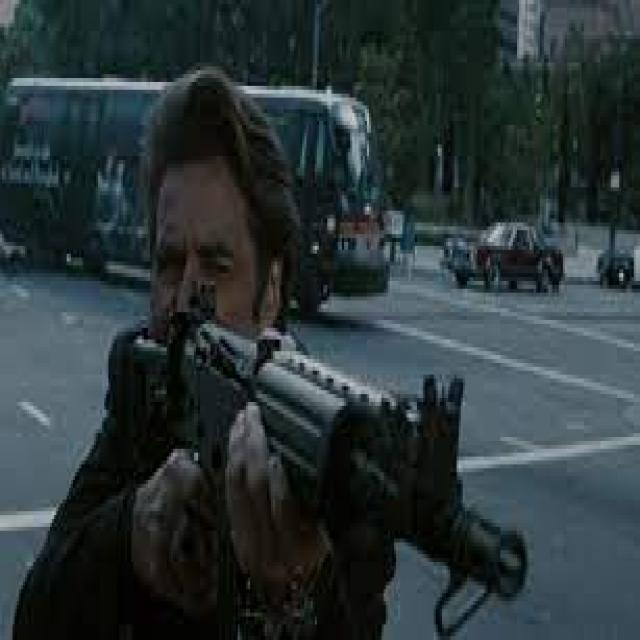weapons: (101, 229, 537, 628)
